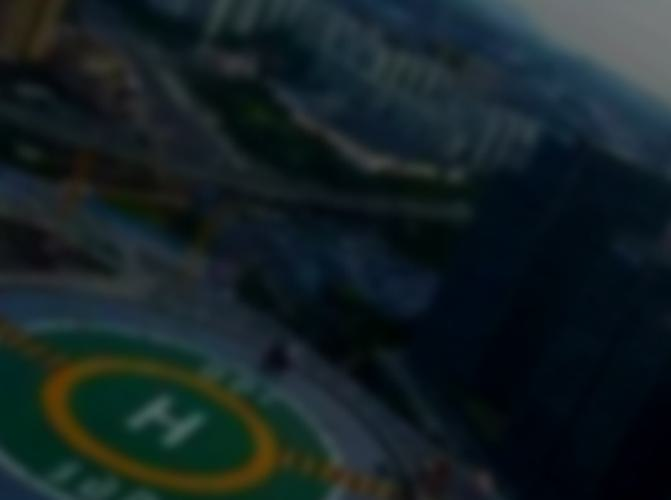Apron: (39, 322, 287, 496)
